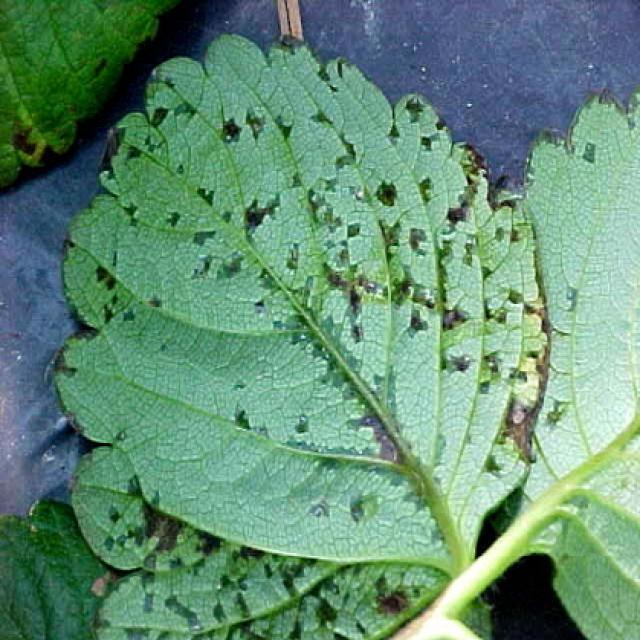Angular Leafspot: (44, 32, 554, 638), (488, 82, 638, 638)
